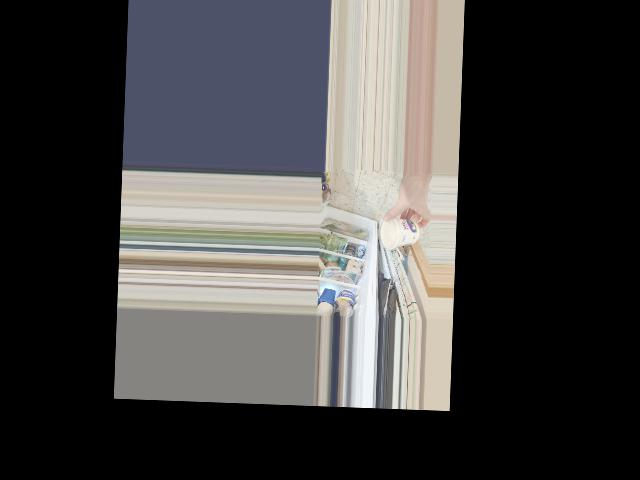cotage: (379, 215, 419, 247)
